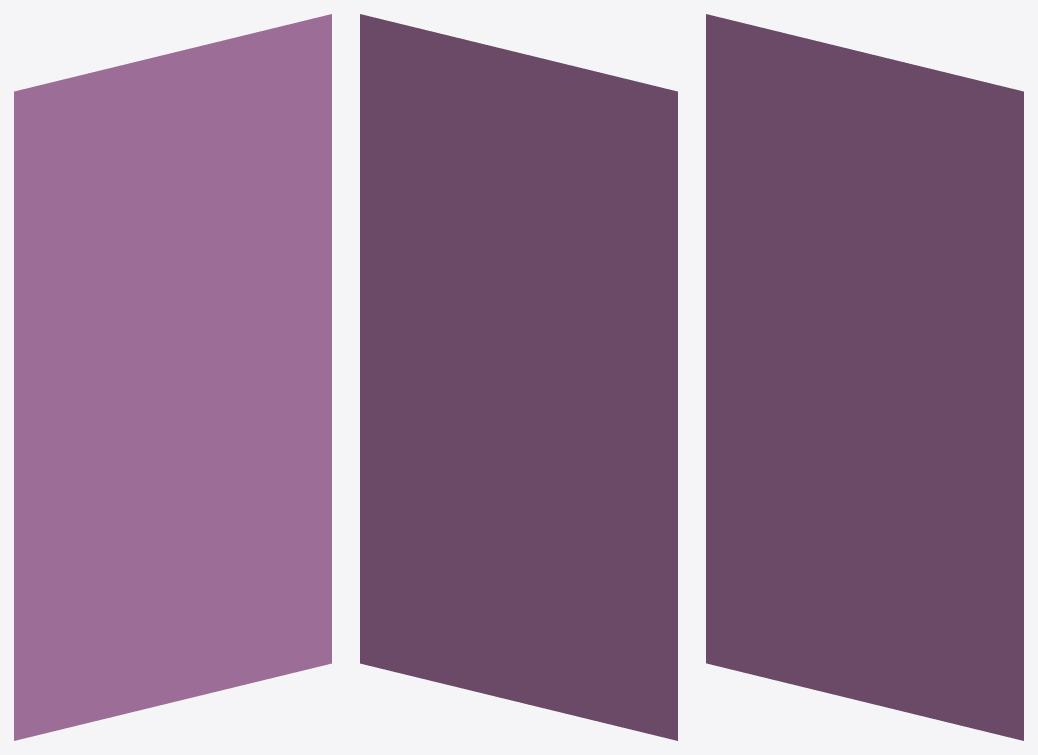
Rendered from Itr_Wall_Small_Color_11.FBX.
3 views of the same model, side by side, from view 1: azimuth 30°, elevation 25°; view 2: azimuth 150°, elevation 25°; view 3: azimuth 330°, elevation 25° (orthographic).
Visible parts, largest first — view 1: Itr_Wall_Color_11; view 2: Itr_Wall_Color_11; view 3: Itr_Wall_Color_11.
Boxes of the visible parts, x1,y1,x2,y2 form: Itr_Wall_Color_11: (14,14,331,740); Itr_Wall_Color_11: (360,14,677,740); Itr_Wall_Color_11: (706,14,1023,740).
Size of the model in its own units: 35.57 by 69.49 by 0.000147.
